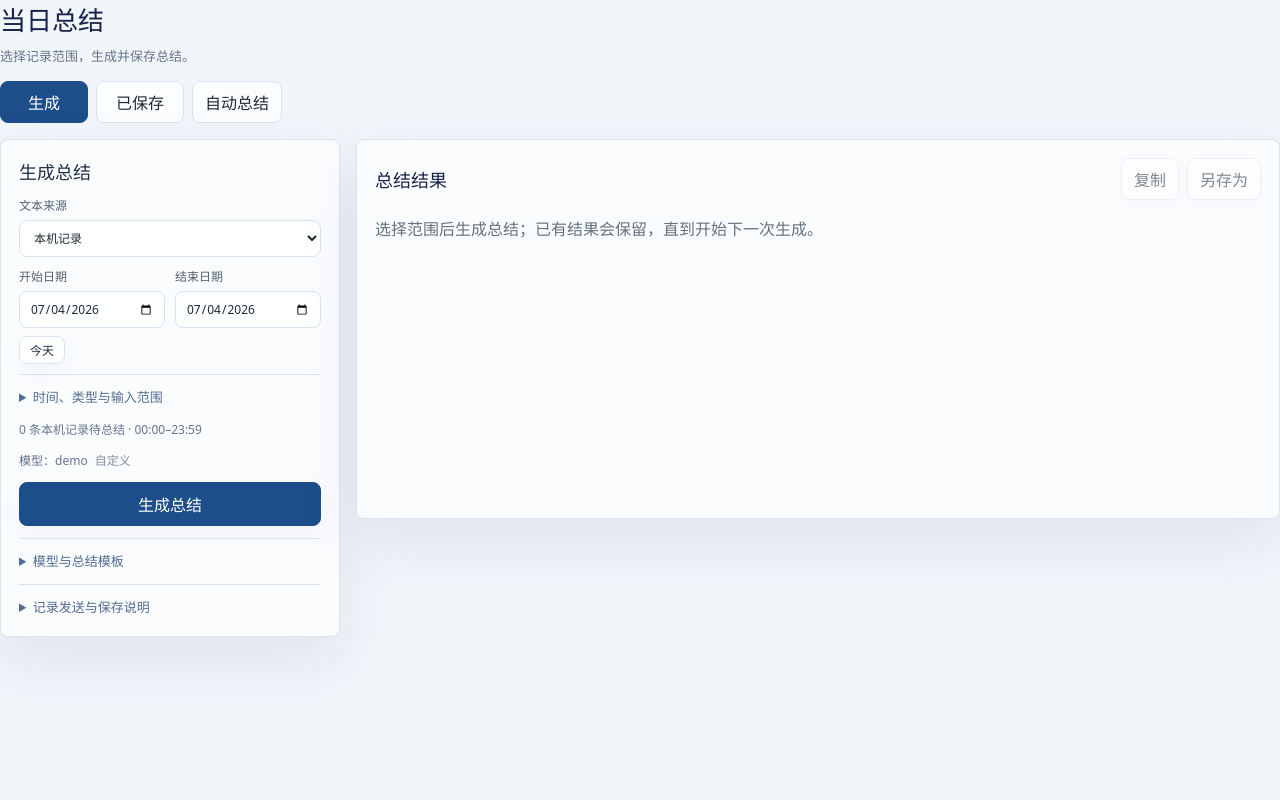
summary streaming and generated log loading › keeps the active draft when browsing saved logs and stops without replacing it with late results
The width and height of the screenshot is (1280, 800).
Click the button "生成总结" at (170, 504), box [19, 482, 321, 526]
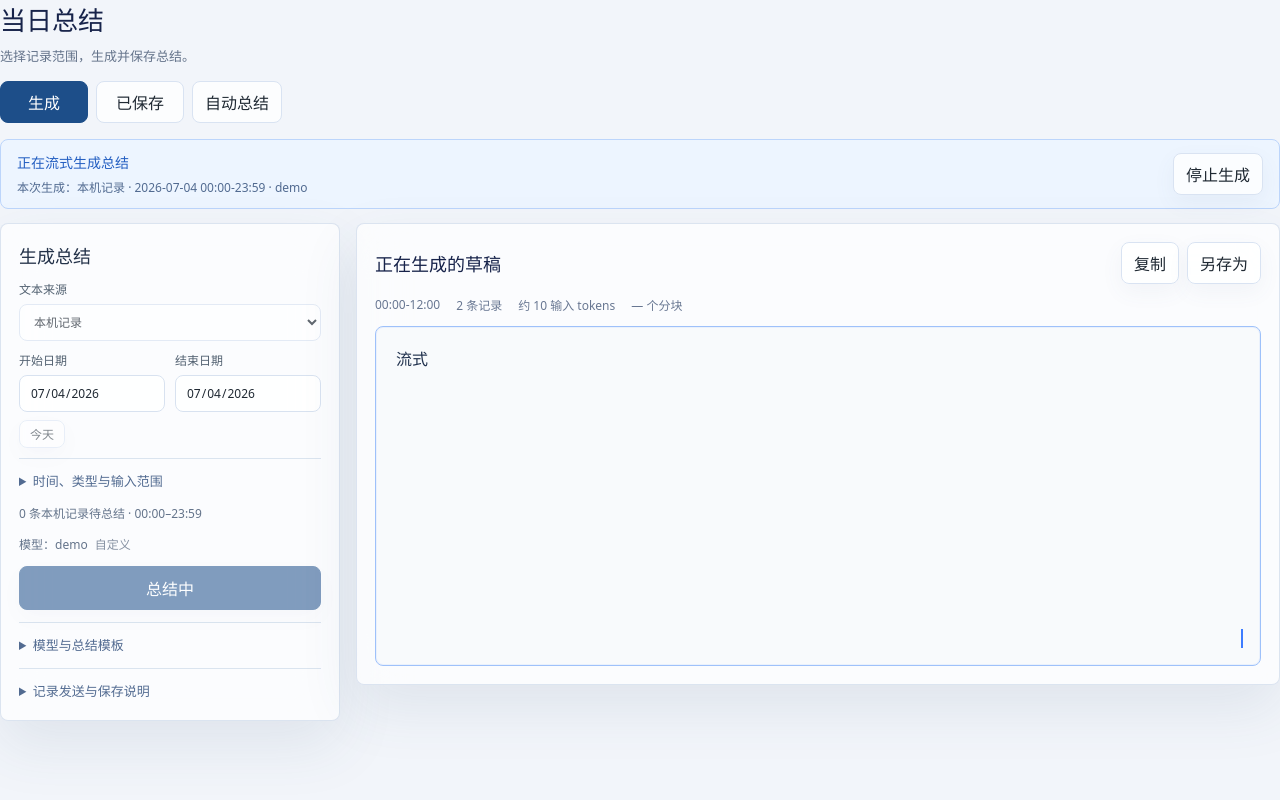
Check: the text "流式" is shown, box [396, 348, 428, 370]
Check: the element labelled "开始日期" is disabled, box [19, 280, 321, 492]
Click the button "已保存" at (140, 102), box [96, 81, 184, 123]
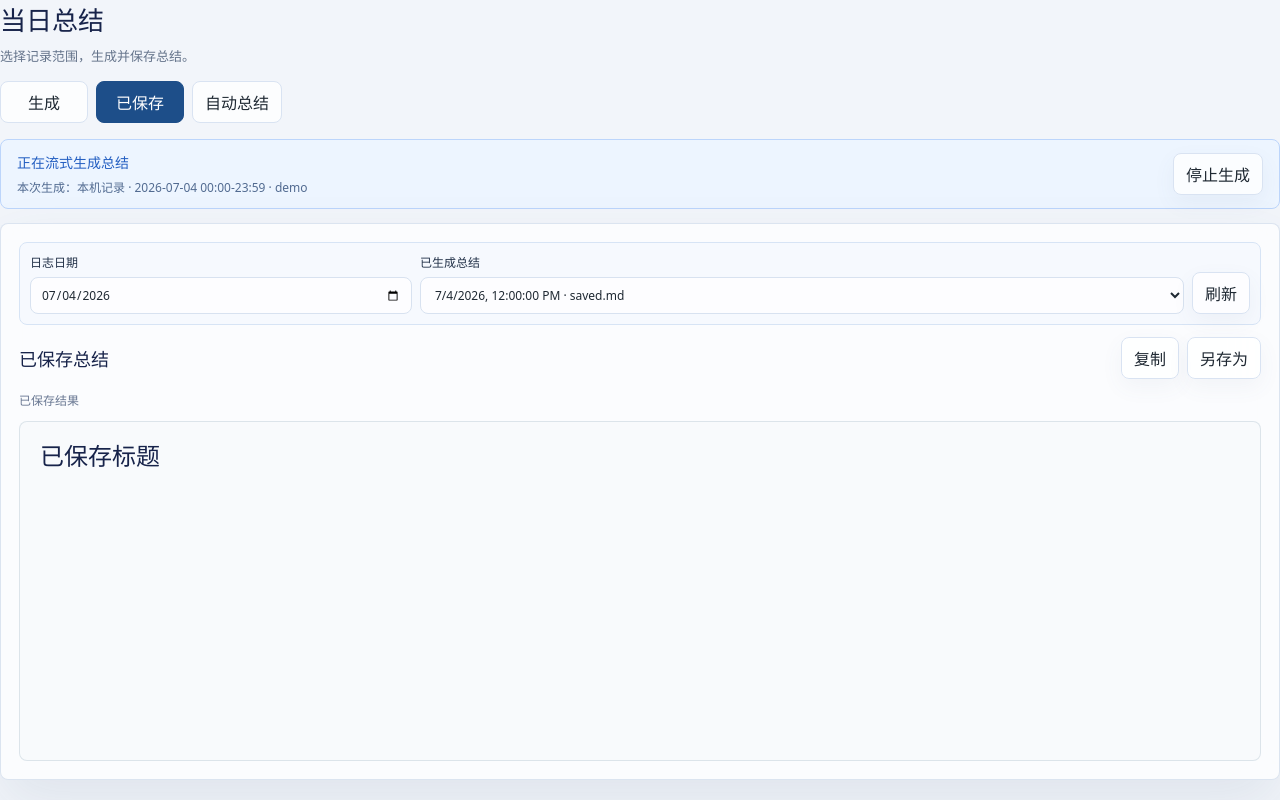
Check: the text "本次生成：本机记录 · 2026-07-04 00:00-23:59 · demo" is shown, box [17, 179, 308, 196]
Check: the heading "已保存标题" is shown, box [40, 439, 160, 472]
Click the button "生成" at (44, 102), box [0, 81, 88, 123]
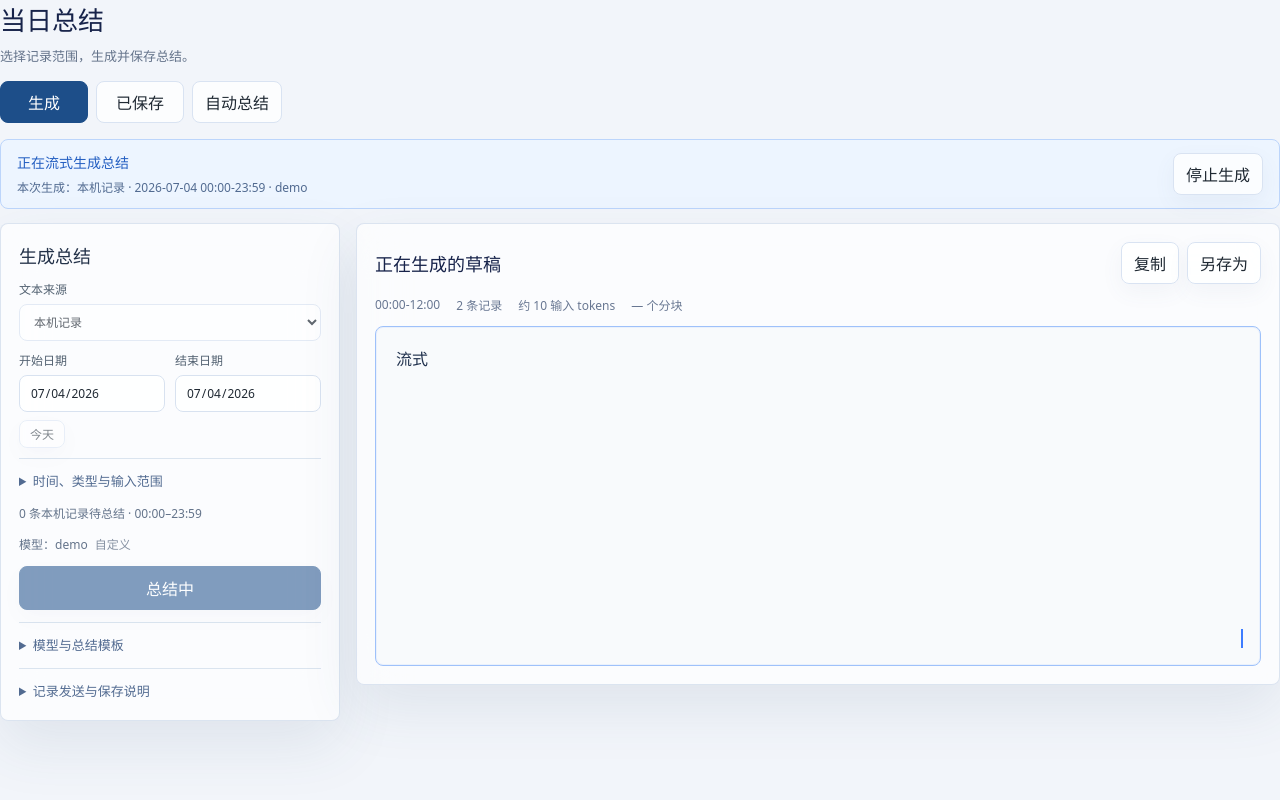
Check: the text "流式" is shown, box [396, 348, 428, 370]
Click the button "停止生成" at (1218, 174), box [1173, 153, 1263, 195]
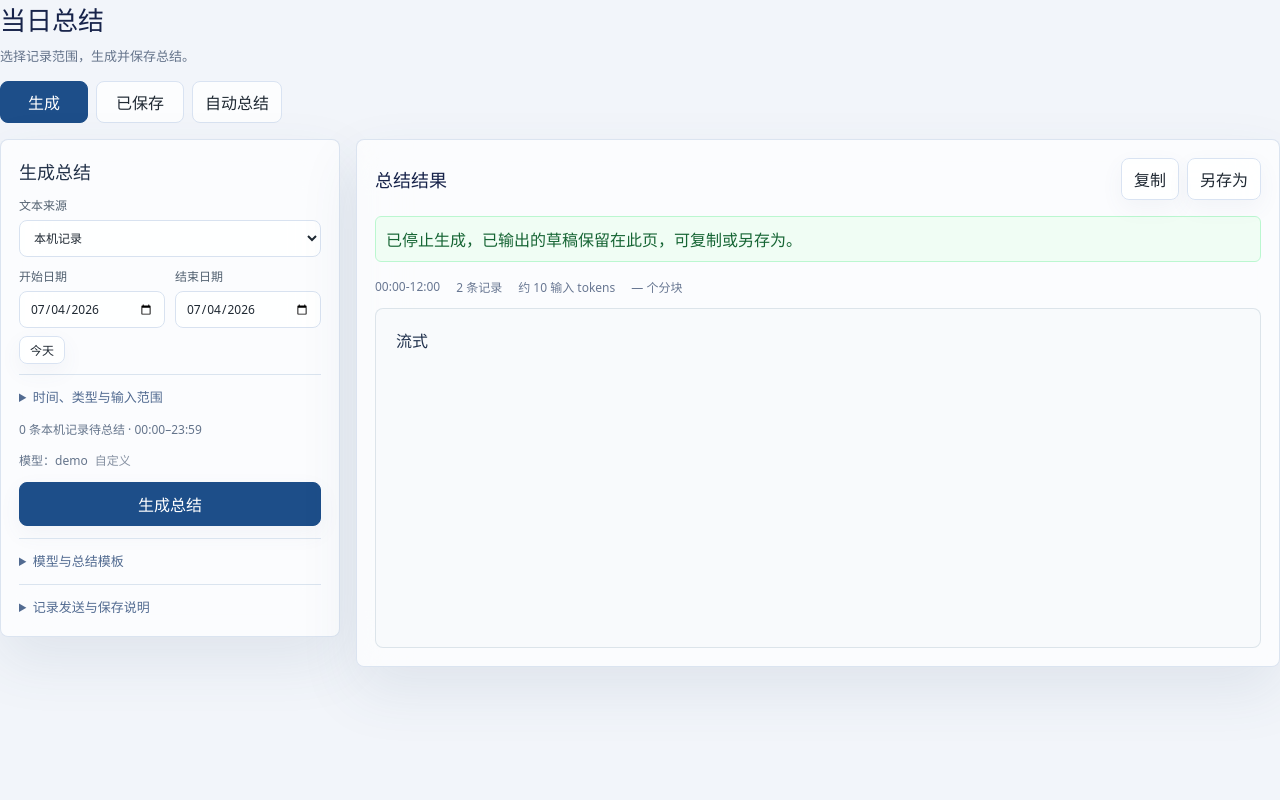
Check: the text "已停止生成，已输出的草稿保留在此页，可复制或另存为。" is shown, box [375, 216, 1261, 262]
